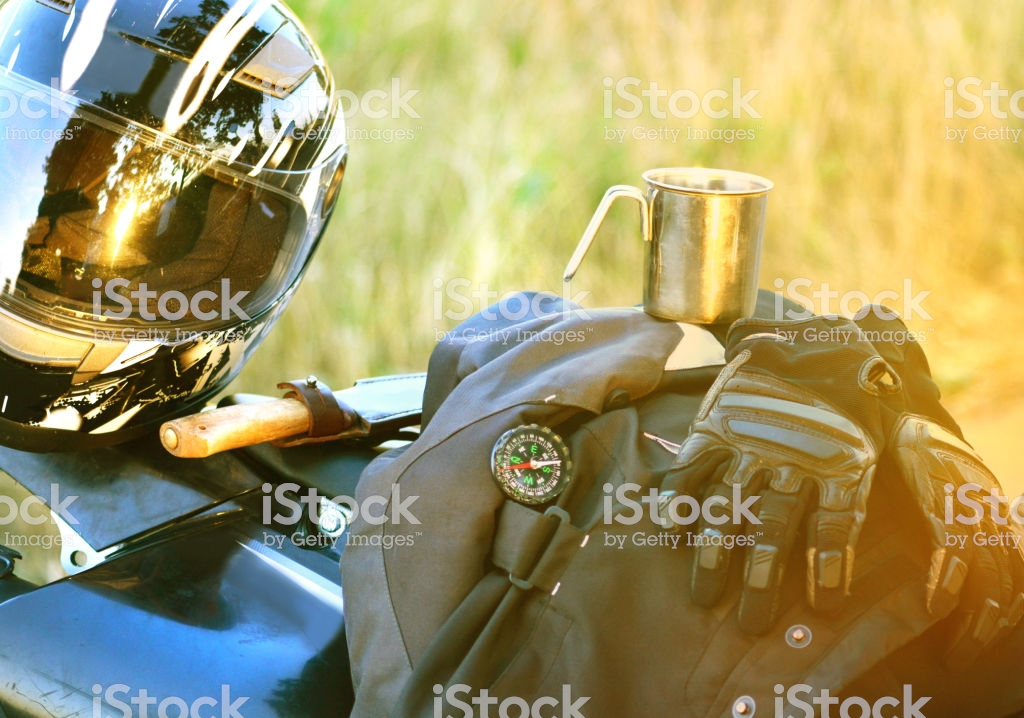helmet: (1, 8, 345, 441)
